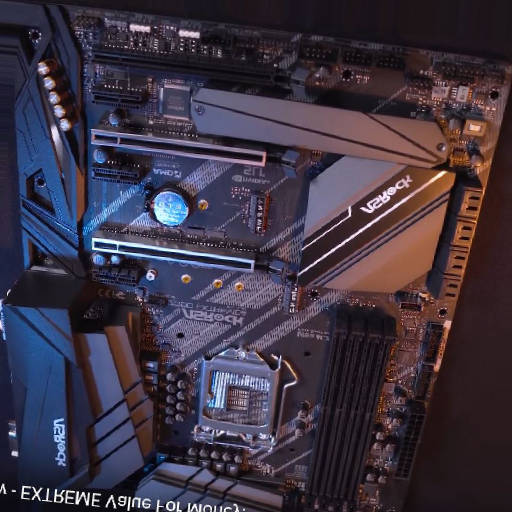CPU: (195, 345, 281, 444)
GPU: (89, 127, 299, 182), (92, 233, 287, 288)
MOTHERBOARD: (5, 7, 507, 506)
RAM: (307, 305, 397, 512)
SSD: (243, 190, 268, 235), (282, 283, 301, 317)
